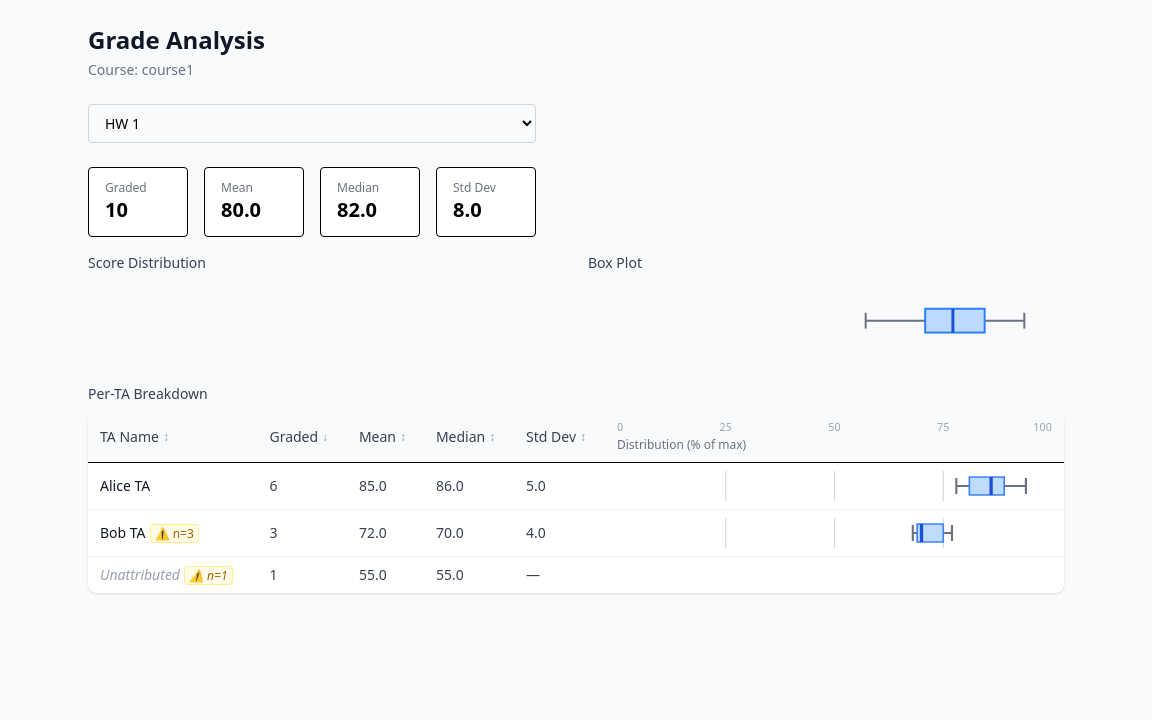
per-TA sortable table › clicking Median header re-sorts the table
Click the button "Median ↕" at (466, 437), box top-left (436, 427), bottom-right (495, 447)
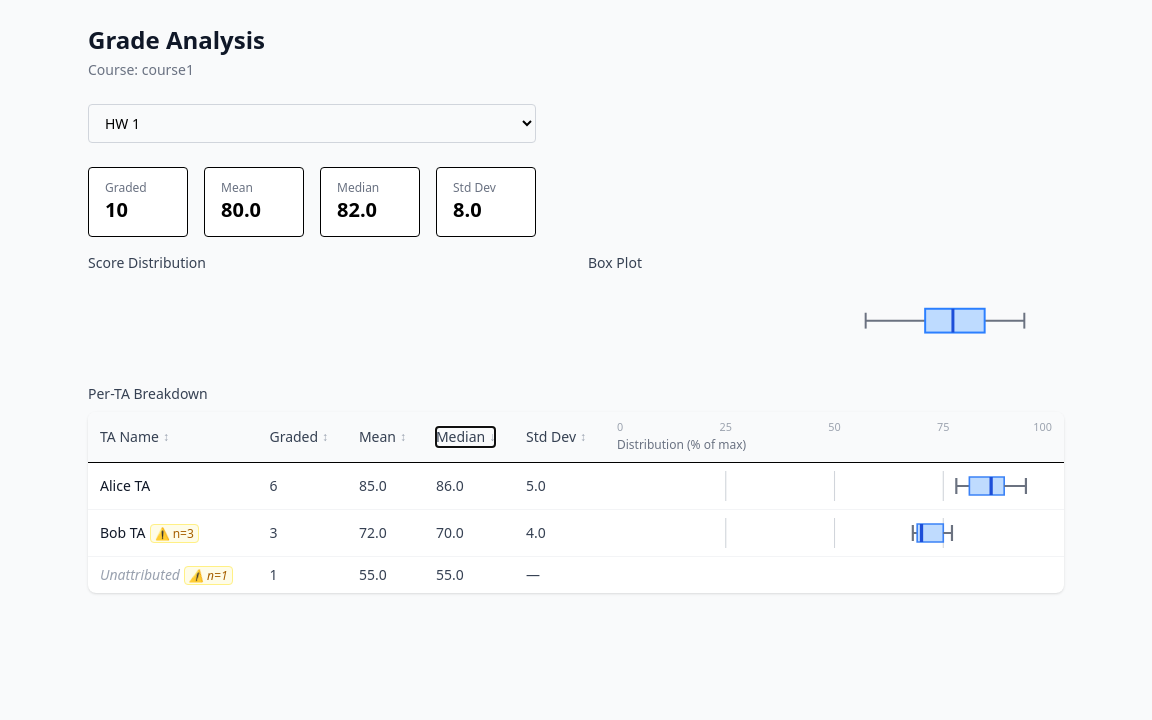
expect the button "Median ↓" is shown: met, box top-left (436, 427), bottom-right (495, 447)
